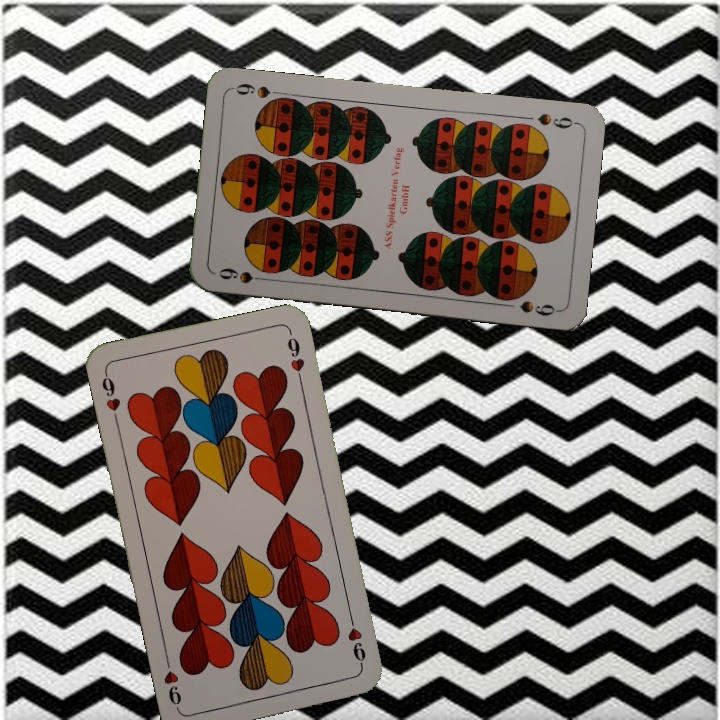H9: (343, 612, 369, 671), (97, 368, 123, 426)
S9: (215, 263, 272, 287), (533, 109, 579, 131)
